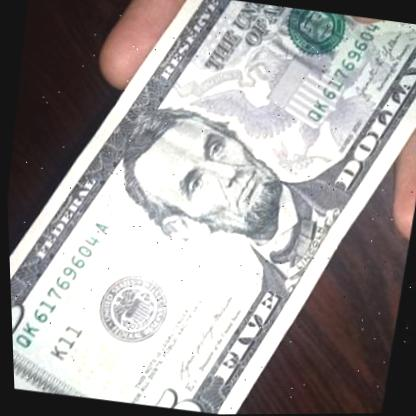five-front: (2, 0, 416, 416)
